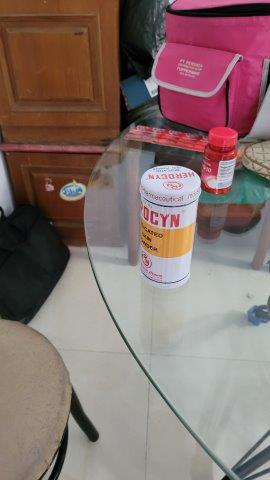kaleng: (139, 166, 200, 288)
